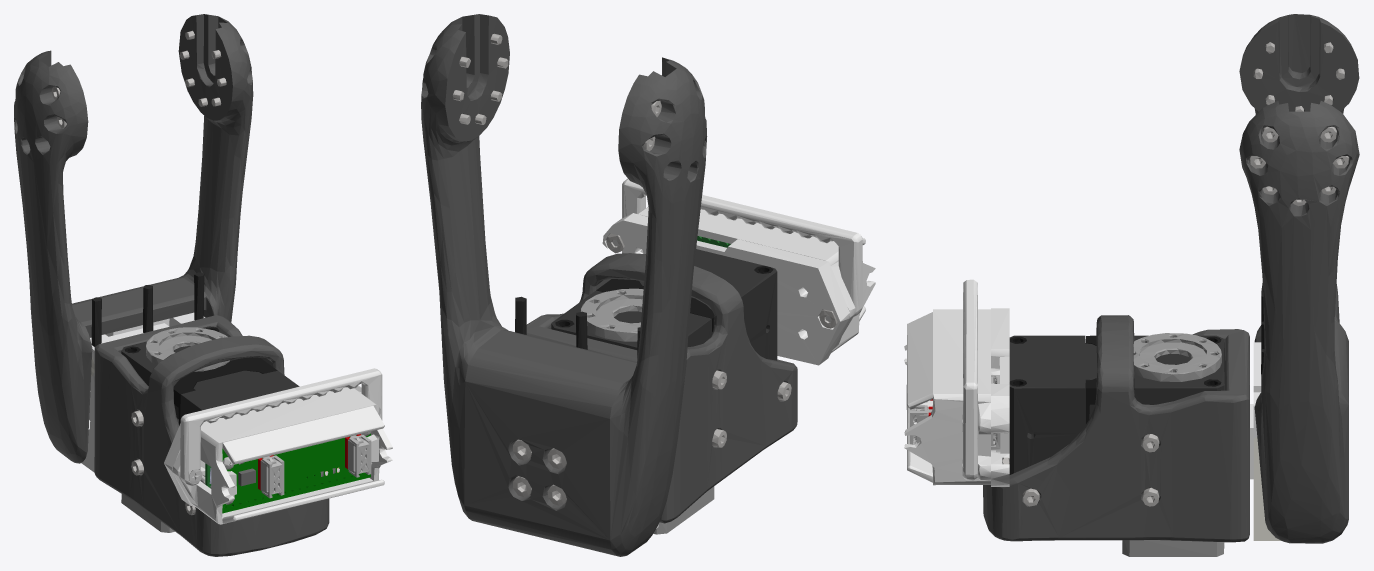
The model's file is link_leg_0_L_1.obj.
The picture shows the model from 3 angles, left to right: view 1: azimuth 30°, elevation 25°; view 2: azimuth 150°, elevation 25°; view 3: azimuth 270°, elevation 25°; orthographic projection. The views are drawn at different scales.
Visible parts, largest first — view 1: link_leg_0_L_1; view 2: link_leg_0_L_1; view 3: link_leg_0_L_1.
Boxes of the visible parts, left/top/right/bottom form: link_leg_0_L_1: left=14, top=14, right=392, bottom=556; link_leg_0_L_1: left=421, top=14, right=875, bottom=556; link_leg_0_L_1: left=904, top=14, right=1359, bottom=556.
Size of the model in its own units: 74.42 by 142 by 122.
